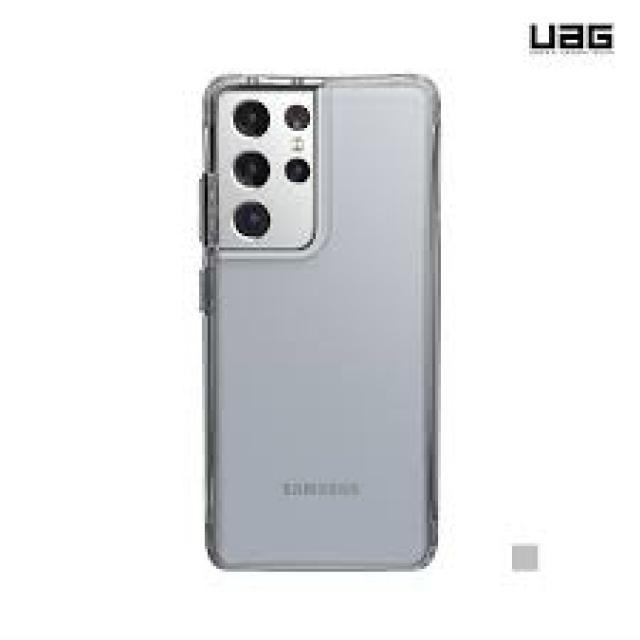phone: (202, 77, 446, 577)
